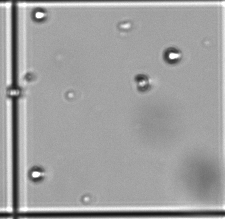Dead Cell: (134, 74, 150, 90)
Living Cell: (164, 48, 182, 65), (29, 167, 43, 182), (7, 86, 21, 99), (31, 9, 45, 21)
